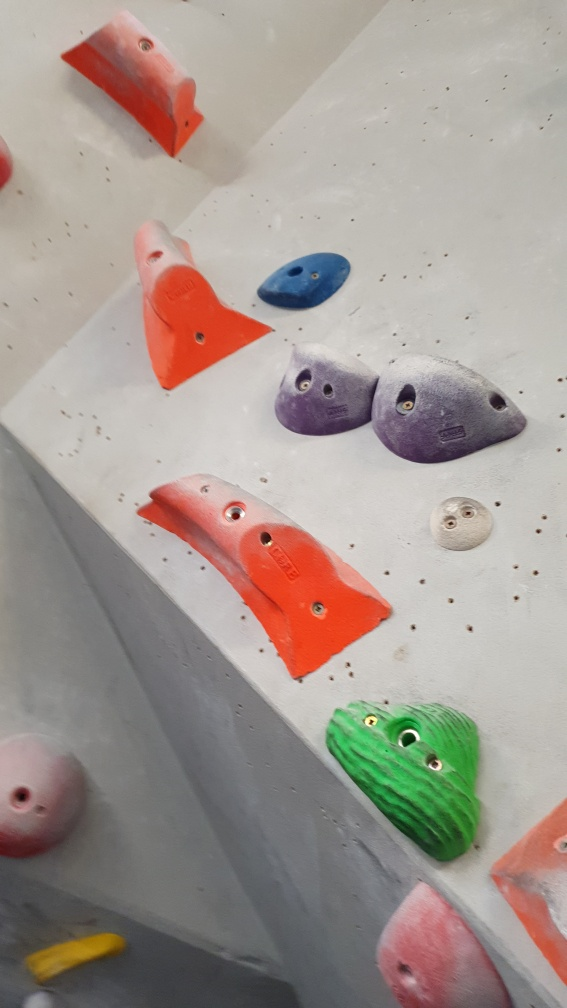Crimp: (254, 245, 353, 317)
Jug: (327, 694, 487, 863), (370, 354, 529, 466), (269, 338, 379, 440)
Pinch: (141, 470, 399, 679), (131, 218, 275, 391), (65, 12, 209, 157), (485, 794, 567, 981)
Sloper: (1, 732, 92, 870)
